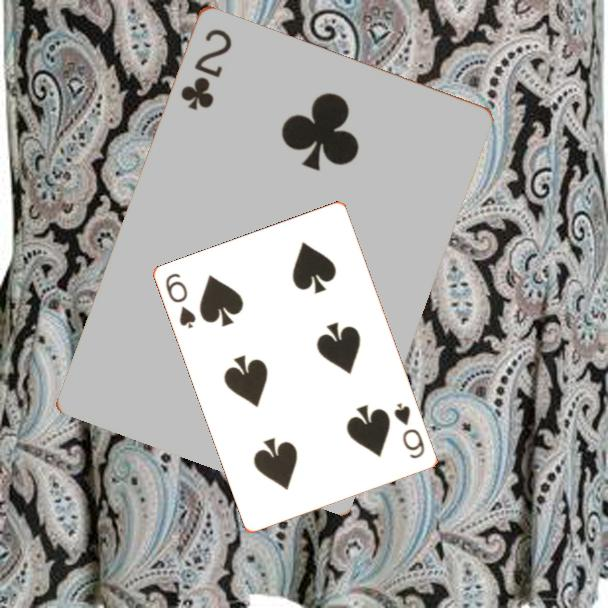c02: (176, 24, 235, 113)
s06: (391, 399, 428, 462), (162, 270, 199, 332)
